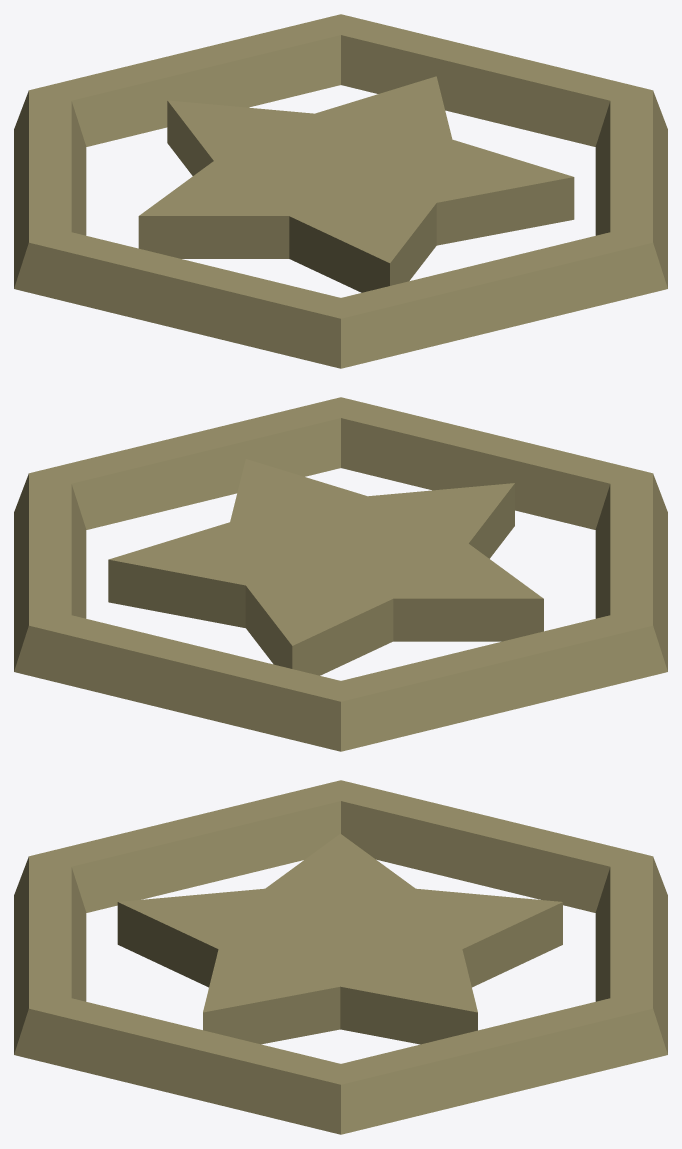
File: Bonus_Etoile.FBX
3 renders of one model, top to bottom at view 1: azimuth 30°, elevation 25°; view 2: azimuth 150°, elevation 25°; view 3: azimuth 270°, elevation 25°, orthographic.
Visible parts, largest first — view 1: 3DIcon_Etoile; view 2: 3DIcon_Etoile; view 3: 3DIcon_Etoile.
Boxes of the visible parts, left/top/right/bottom form: 3DIcon_Etoile: left=14, top=14, right=667, bottom=368; 3DIcon_Etoile: left=14, top=397, right=667, bottom=751; 3DIcon_Etoile: left=14, top=780, right=667, bottom=1134.
Bounding box in the file's own units: 1 × 0.0625 × 0.866.
